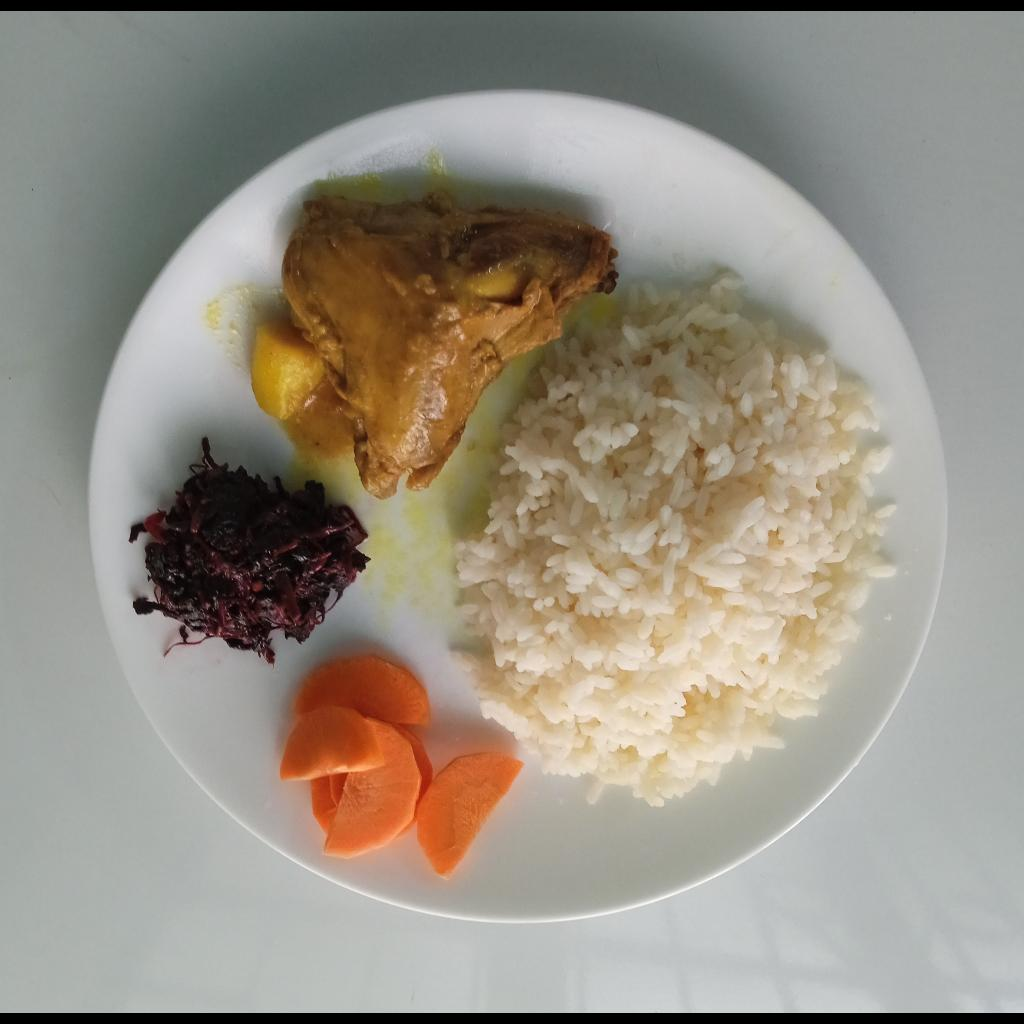carrot: (278, 655, 524, 880)
chicken: (282, 184, 618, 499)
potato: (250, 317, 323, 421)
rice: (444, 267, 893, 803)
shak: (133, 437, 369, 665)
